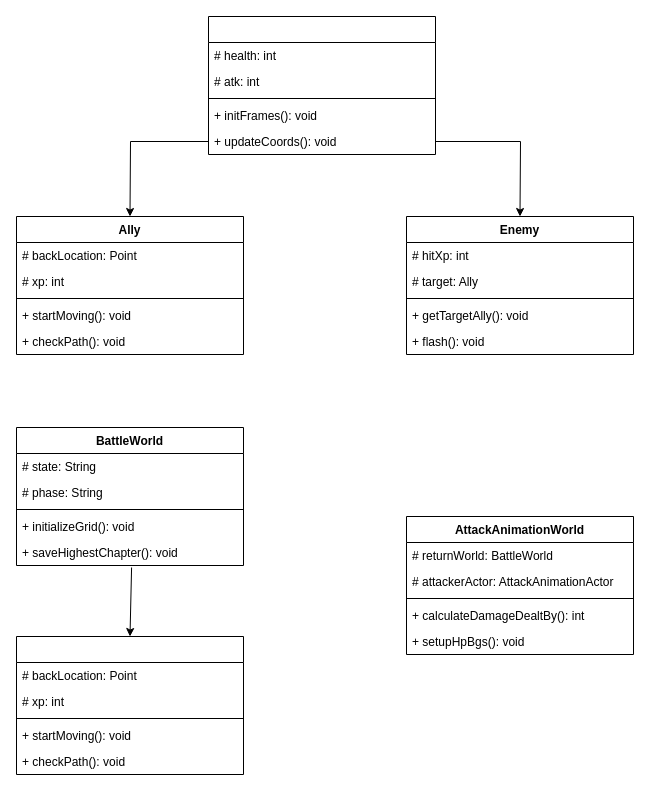
The diagram is 650 pixels wide and 791 high, and some of its shapes have lost their labels. Each missing label, with the box of its shape:
BattleWorldCharacter: (208, 16, 436, 154)
Chapter1: (16, 636, 244, 774)
